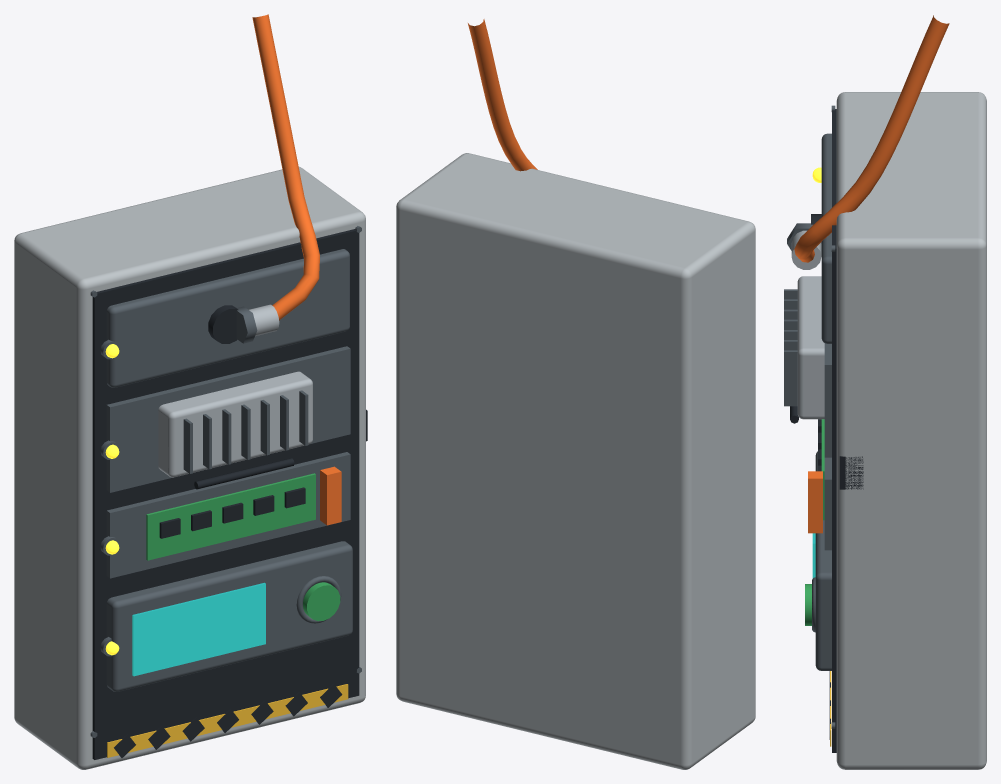
Rendered from comm-rack.glb.
3 renders of one model, left to right at view 1: azimuth 30°, elevation 25°; view 2: azimuth 150°, elevation 25°; view 3: azimuth 270°, elevation 25°, orthographic. The views are drawn at different scales.
Parts seen in each view (by area): view 1: comm-rack-panel-grey, comm-rack-dark-steel, comm-rack-dark-polymer, amp-body, radio_screen, card-board, feed_cable, _hz-hazard-yellow, _hz-dark-polymer, handle-grip, button-cap, amp-handle (+2 smaller); view 2: comm-rack-panel-grey, feed_cable; view 3: comm-rack-panel-grey, comm-rack-dark-steel, feed_cable, amp-body, comm-rack-dark-polymer, handle-grip, amp-fin, tester_port-dark-polymer, plug-body.
Part boxes in pixels (box(x1,y1,x2,y2)): comm-rack-panel-grey: box(14, 166, 365, 769); comm-rack-dark-steel: box(90, 226, 361, 737); comm-rack-dark-polymer: box(92, 229, 359, 759); amp-body: box(158, 371, 312, 477); radio_screen: box(132, 582, 265, 676); card-board: box(146, 473, 315, 560); feed_cable: box(252, 14, 319, 320); _hz-hazard-yellow: box(107, 684, 348, 757); _hz-dark-polymer: box(114, 683, 342, 757); handle-grip: box(320, 466, 341, 525); button-cap: box(303, 582, 340, 621); amp-handle: box(194, 458, 294, 489); comm-rack-panel-grey: box(396, 153, 755, 769); feed_cable: box(468, 19, 537, 171); comm-rack-panel-grey: box(836, 92, 986, 769); comm-rack-dark-steel: box(815, 105, 835, 728); feed_cable: box(794, 15, 949, 262); amp-body: box(797, 276, 824, 419); comm-rack-dark-polymer: box(811, 109, 836, 752); handle-grip: box(808, 471, 822, 533); amp-fin: box(784, 350, 797, 406); tester_port-dark-polymer: box(839, 456, 863, 489); plug-body: box(791, 230, 821, 269).
Bounding box in the file's own units: 1.2 × 2.66 × 0.675.
